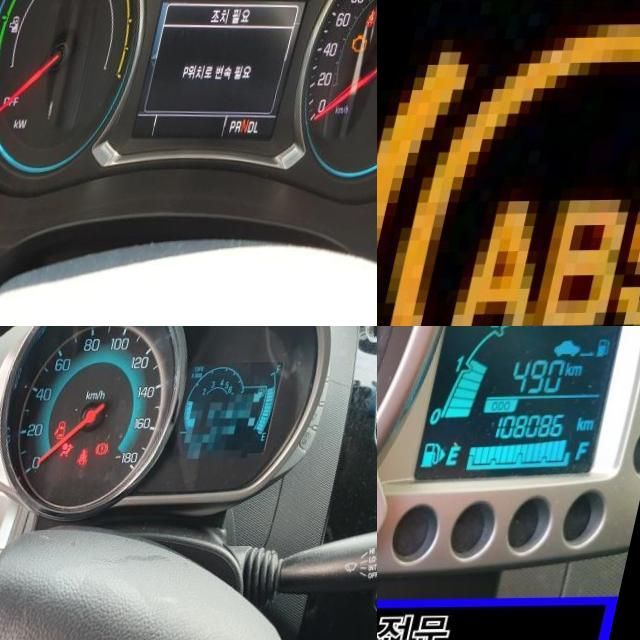Doors: (64, 421, 79, 440)
